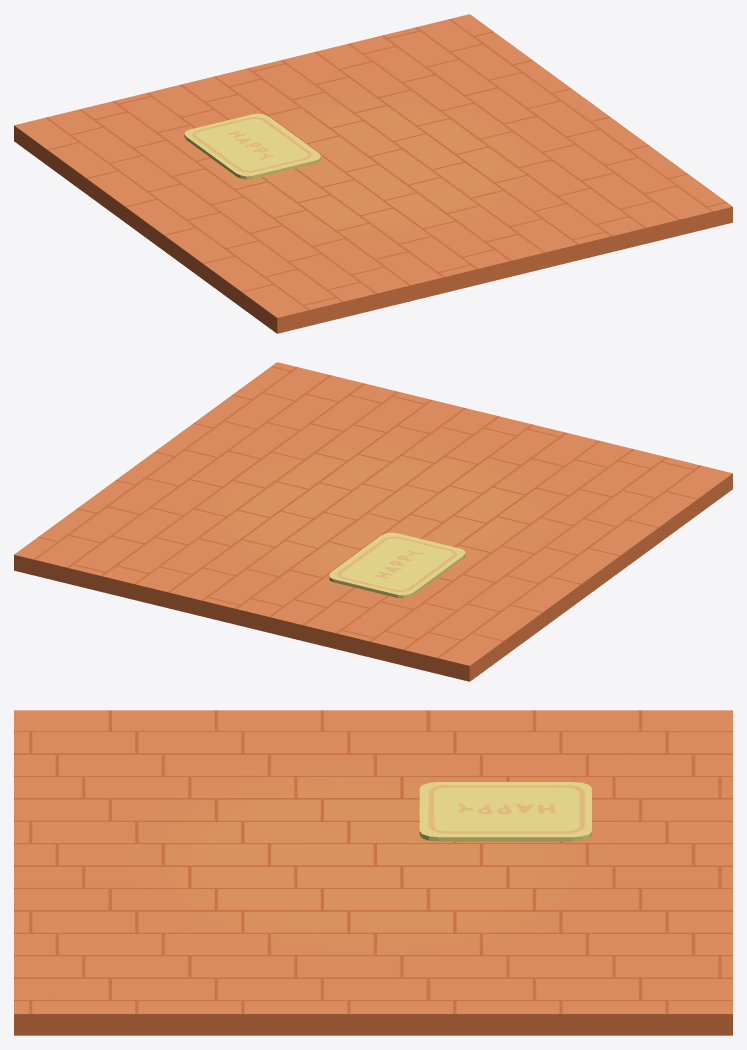
Rendered from stage_1_floor.fbx.
The picture shows the model from 3 angles, top to bottom: view 1: azimuth 30°, elevation 25°; view 2: azimuth 150°, elevation 25°; view 3: azimuth 270°, elevation 25°; orthographic projection. The views are drawn at different scales.
Parts seen in each view (by area): view 1: floor; view 2: floor; view 3: floor.
Boxes of the visible parts, bbox=[...] form: floor: bbox=[14, 14, 732, 333]; floor: bbox=[14, 362, 732, 681]; floor: bbox=[14, 710, 732, 1035].
Bounding box in the file's own units: 600 × 24 × 600.
